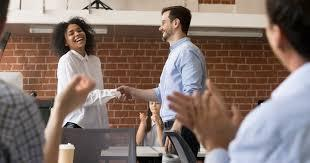No_Goggles: (66, 26, 85, 37)
